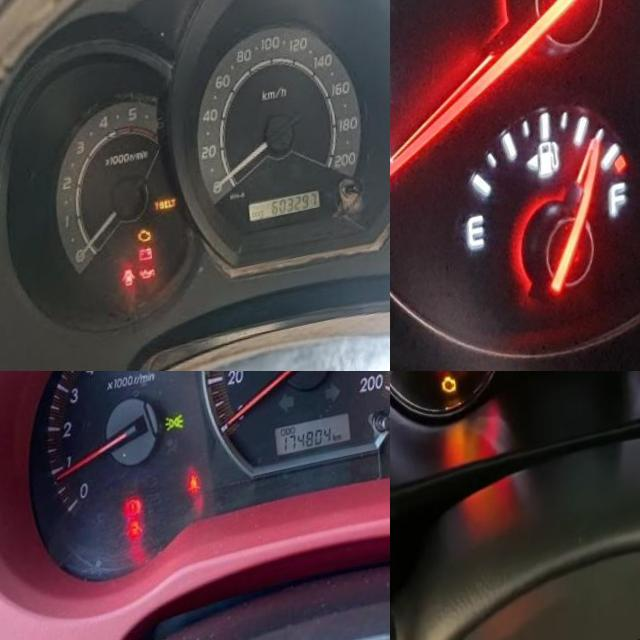Seat Belt: (179, 482, 191, 503)
